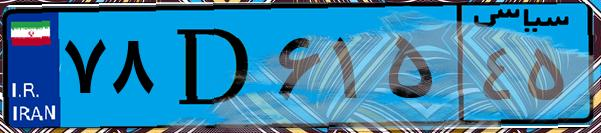1: (330, 28, 385, 110)
4: (475, 38, 525, 113)
5: (385, 28, 445, 110), (525, 38, 570, 115)
6: (270, 28, 330, 110)
7: (57, 26, 110, 100)
8: (110, 28, 158, 98)
D: (158, 12, 270, 120)
